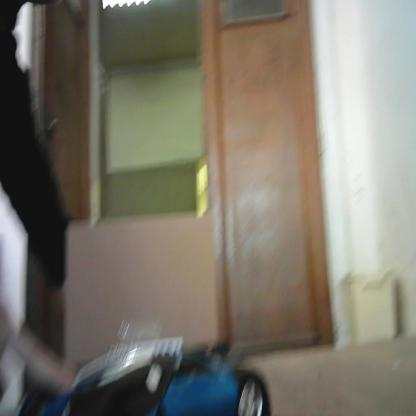LeadTruck: (62, 207, 222, 390)
